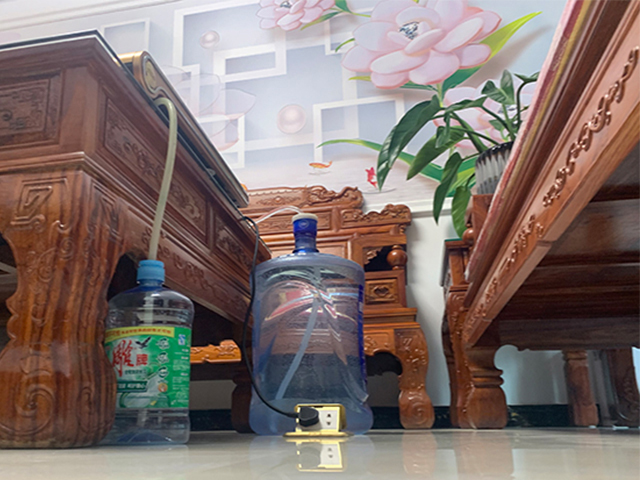sofa: (438, 1, 640, 430)
table: (1, 27, 268, 447)
wire: (242, 214, 320, 426)
